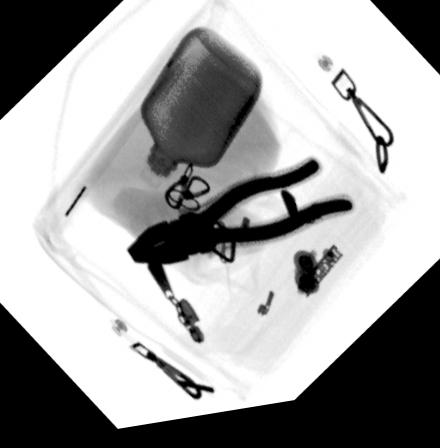Pliers: (123, 164, 355, 270)
